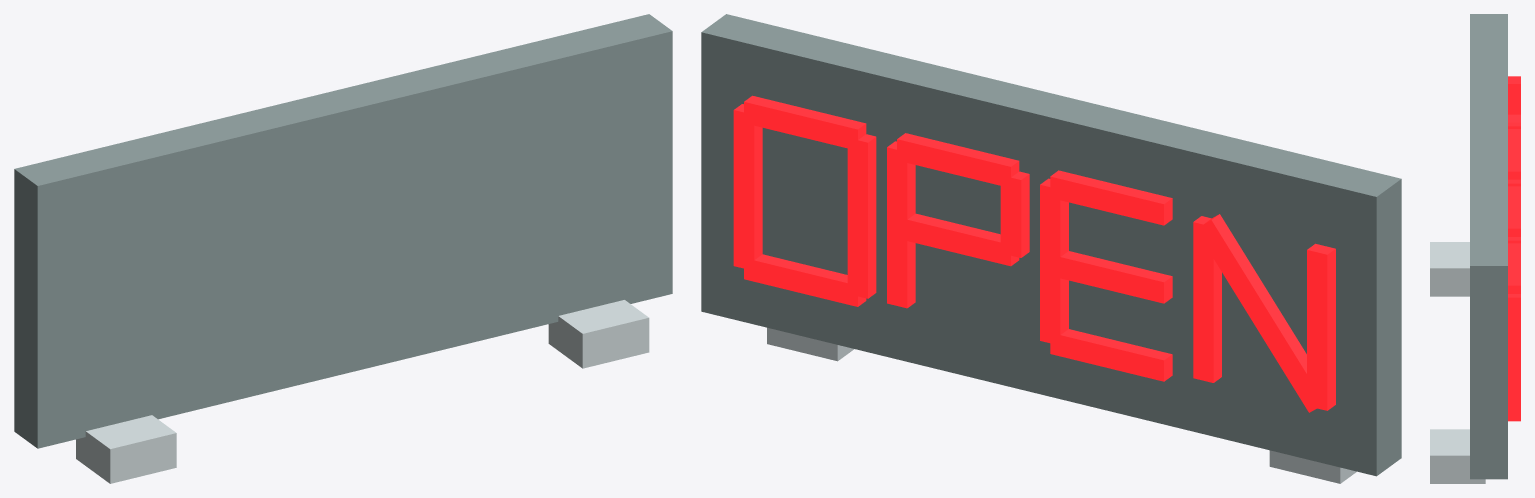
Rendered from diner_open_sign.glb.
3 renders of one model, left to right at view 1: azimuth 30°, elevation 25°; view 2: azimuth 150°, elevation 25°; view 3: azimuth 270°, elevation 25°, orthographic. The views are drawn at different scales.
Visible parts, largest first — view 1: open_sign_housing, open_sign_bracket_right, open_sign_bracket_left; view 2: open_sign_housing, open_sign_n_stroke_2, open_sign_o_stroke_3, open_sign_n_stroke_1, open_sign_o_stroke_2, open_sign_n_stroke_0, open_sign_e_stroke_0, open_sign_p_stroke_0, open_sign_e_stroke_1, open_sign_e_stroke_3, open_sign_o_stroke_1, open_sign_p_stroke_1 (+6 smaller); view 3: open_sign_housing, open_sign_bracket_right, open_sign_bracket_left, open_sign_o_stroke_2, open_sign_e_stroke_1, open_sign_o_stroke_1, open_sign_p_stroke_1, open_sign_n_stroke_1.
Part boxes in pixels (x1,y1,x2,y2): open_sign_housing: [14, 14, 672, 448]; open_sign_bracket_right: [548, 300, 649, 368]; open_sign_bracket_left: [76, 415, 176, 483]; open_sign_housing: [701, 14, 1401, 476]; open_sign_n_stroke_2: [1198, 214, 1317, 412]; open_sign_o_stroke_3: [847, 134, 876, 298]; open_sign_n_stroke_1: [1307, 243, 1335, 410]; open_sign_o_stroke_2: [733, 104, 762, 270]; open_sign_n_stroke_0: [1193, 216, 1221, 382]; open_sign_e_stroke_0: [1040, 178, 1068, 345]; open_sign_p_stroke_0: [887, 141, 915, 308]; open_sign_e_stroke_1: [1050, 170, 1172, 225]; open_sign_e_stroke_3: [1050, 329, 1172, 381]; open_sign_o_stroke_1: [744, 95, 866, 148]; open_sign_p_stroke_1: [897, 133, 1019, 188]; open_sign_housing: [1470, 14, 1507, 479]; open_sign_bracket_right: [1430, 429, 1485, 483]; open_sign_bracket_left: [1430, 242, 1469, 296]; open_sign_o_stroke_2: [1508, 294, 1520, 416]; open_sign_e_stroke_1: [1508, 129, 1520, 179]; open_sign_o_stroke_1: [1508, 243, 1520, 293]; open_sign_p_stroke_1: [1508, 186, 1520, 236]; open_sign_n_stroke_1: [1508, 76, 1520, 114].
Bounding box in the file's own units: 0.86 × 0.3775 × 0.131.
